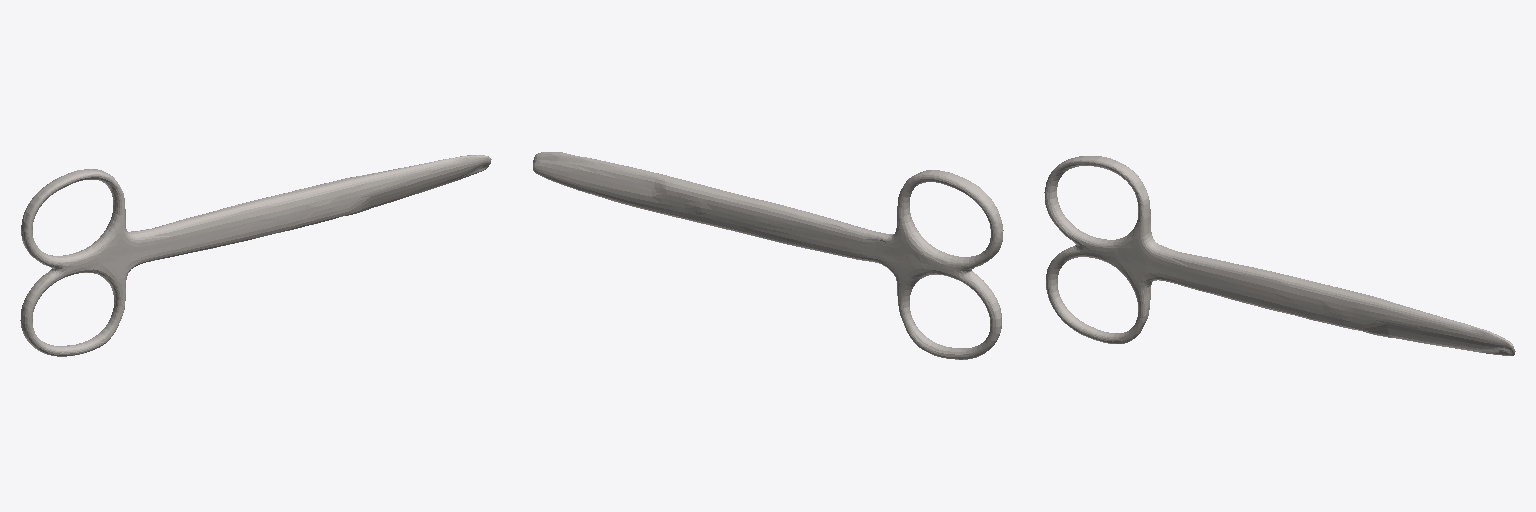
The robot description file, URDF, robot "Tooling_15":
<?xml version="1.0" encoding="utf-8"?>
<!-- This URDF was automatically created by SolidWorks to URDF Exporter! Originally created by Stephen Brawner (brawner@gmail.com)
     Commit Version: 1.6.0-4-g7f85cfe  Build Version: 1.6.7995.38578
     For more information, please see http://wiki.ros.org/sw_urdf_exporter -->
<robot
  name="Tooling_15">
  <link
    name="base_link">
    <inertial>
      <origin
        xyz="-2.2077E-05 2.9175E-05 -6.7379E-05"
        rpy="0 0 0" />
      <mass
        value="0.04961" />
      <inertia
        ixx="2.9924E-06"
        ixy="-2.5876E-08"
        ixz="-2.2575E-07"
        iyy="7.2629E-05"
        iyz="-1.3709E-08"
        izz="7.5457E-05" />
    </inertial>
    <visual>
      <origin
        xyz="0 0 0"
        rpy="0 0 0" />
      <geometry>
        <mesh
          filename="../meshes/base_link.STL" />
      </geometry>
      <material
        name="">
        <color
          rgba="0.77647 0.75686 0.73725 1" />
      </material>
    </visual>
    <collision>
      <origin
        xyz="0 0 0"
        rpy="0 0 0" />
      <geometry>
        <mesh
          filename="../meshes/base_link.STL" />
      </geometry>
    </collision>
  </link>
</robot>

--- Facts derived from the render (not from the file) ---
The picture shows the robot from 3 angles, left to right: view 1: azimuth 30°, elevation 25°; view 2: azimuth 150°, elevation 25°; view 3: azimuth 330°, elevation 25°; orthographic projection.
Robot: Tooling_15 — 1 links, 0 joints (none); root link base_link; default pose: all joints at 0.
Visible links, largest first — view 1: base_link; view 2: base_link; view 3: base_link.
Boxes of the visible links, bbox=[...] form: base_link: bbox=[20, 155, 491, 356]; base_link: bbox=[533, 152, 1003, 359]; base_link: bbox=[1044, 156, 1515, 355].
Bounding box of the posed robot: 0.1413 × 0.0061 × 0.0527 m (x, y, z).
1 mesh visuals loaded from 1 distinct referenced files (1 binary STL).
